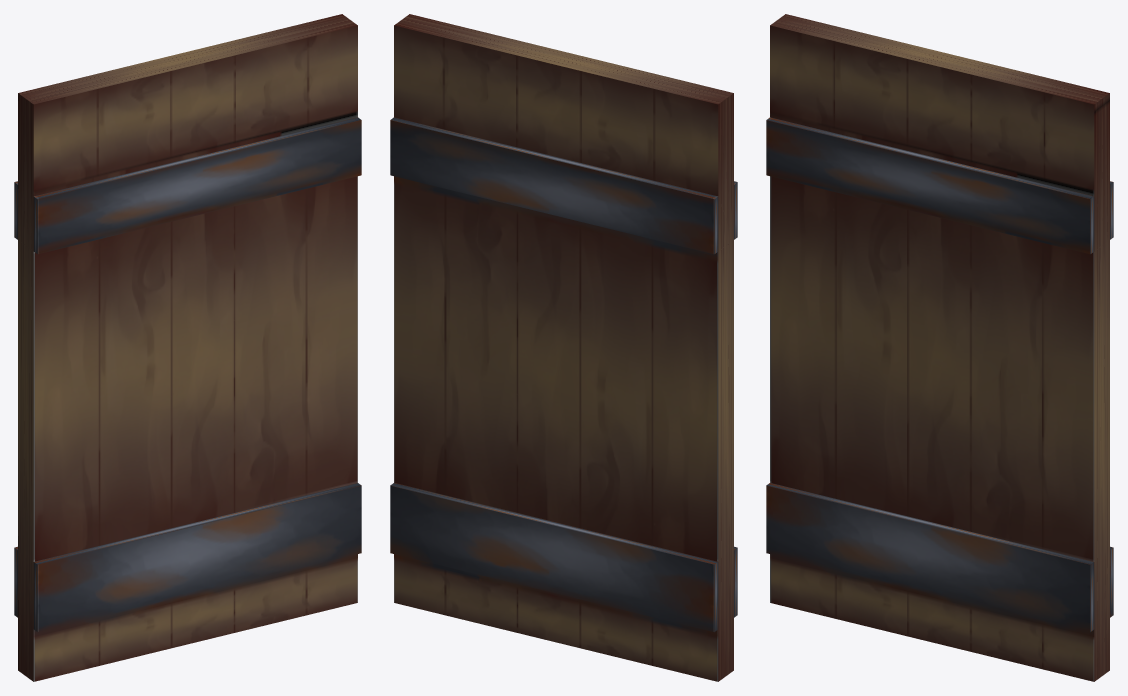
File: ScaleDoor.fbx
3 views of the same model, side by side, from view 1: azimuth 30°, elevation 25°; view 2: azimuth 150°, elevation 25°; view 3: azimuth 330°, elevation 25° (orthographic).
Parts seen in each view (by area): view 1: pCube1; view 2: pCube1; view 3: pCube1.
Part boxes in pixels (left/top/right/bottom): pCube1: left=14, top=14, right=361, bottom=681; pCube1: left=390, top=14, right=737, bottom=681; pCube1: left=766, top=14, right=1113, bottom=681.
Bounding box in the file's own units: 6.48 × 11.03 × 0.8116.
